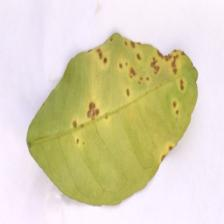canker: (66, 29, 180, 172)
